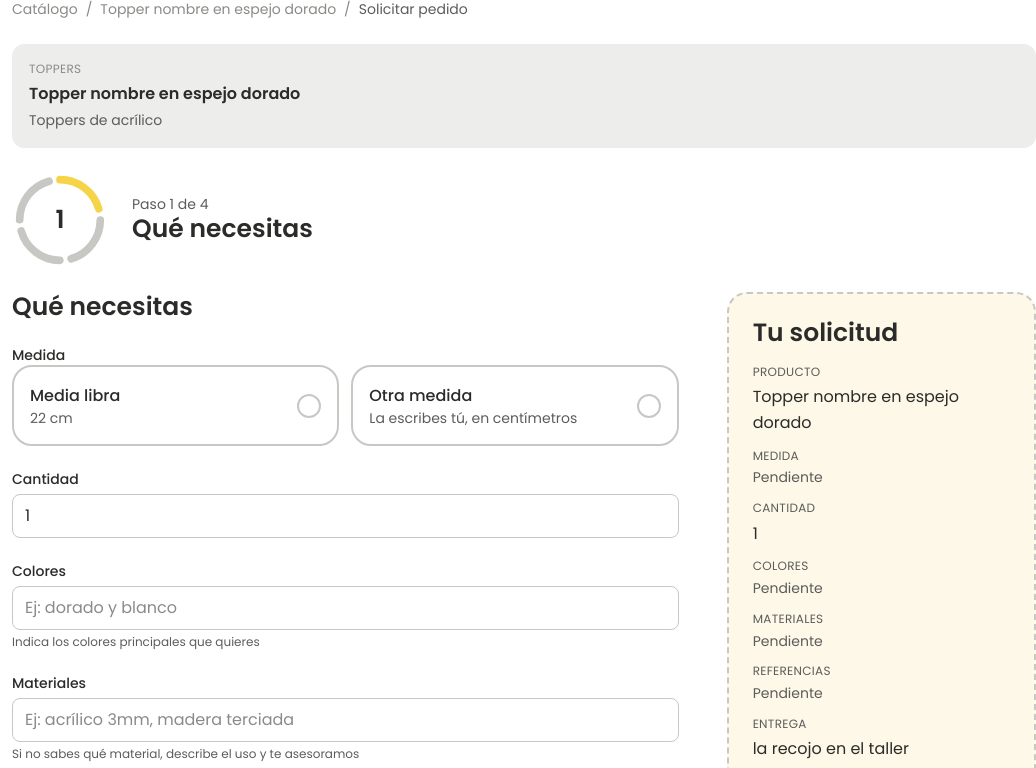
Test case: PedidoFormPage | recorrido › el anillo dice el paso y el momento, y el paso queda en la URL
The width and height of the screenshot is (1036, 768).
Expected: the heading "Qué necesitas" is shown, top-left (12, 289), bottom-right (193, 324)
Click the radio button labelled "Media libra 22 cm" at [176, 406], box top-left (12, 365), bottom-right (339, 446)
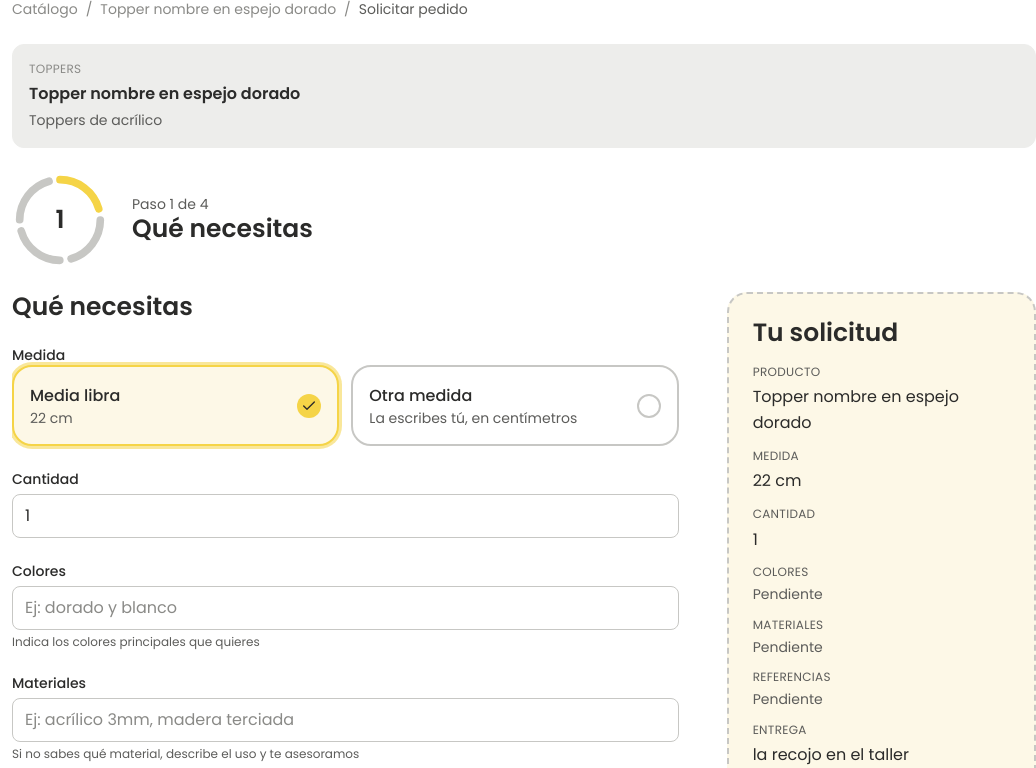
Type "dorado" into the field labelled "Colores" at [345, 608], box top-left (12, 586), bottom-right (679, 630)
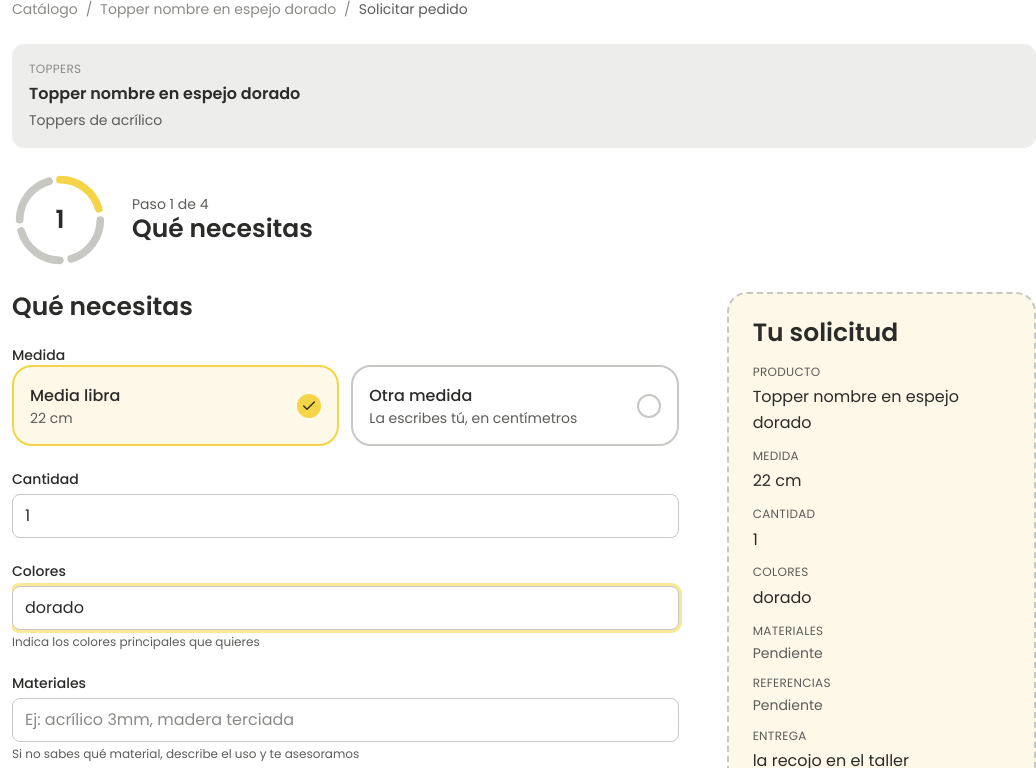
Type "acrílico espejo" into the field labelled "Materiales" at [345, 720], box top-left (12, 698), bottom-right (679, 742)
(page scrolled)
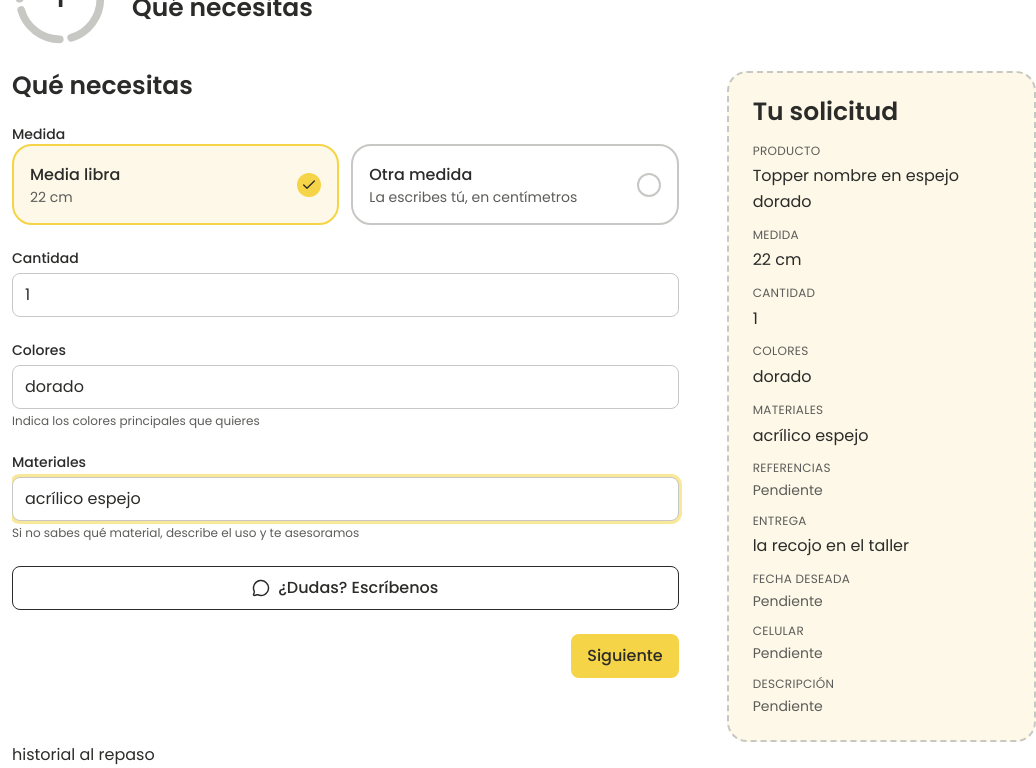
Click the button "Siguiente" at [625, 656], box top-left (571, 634), bottom-right (679, 678)
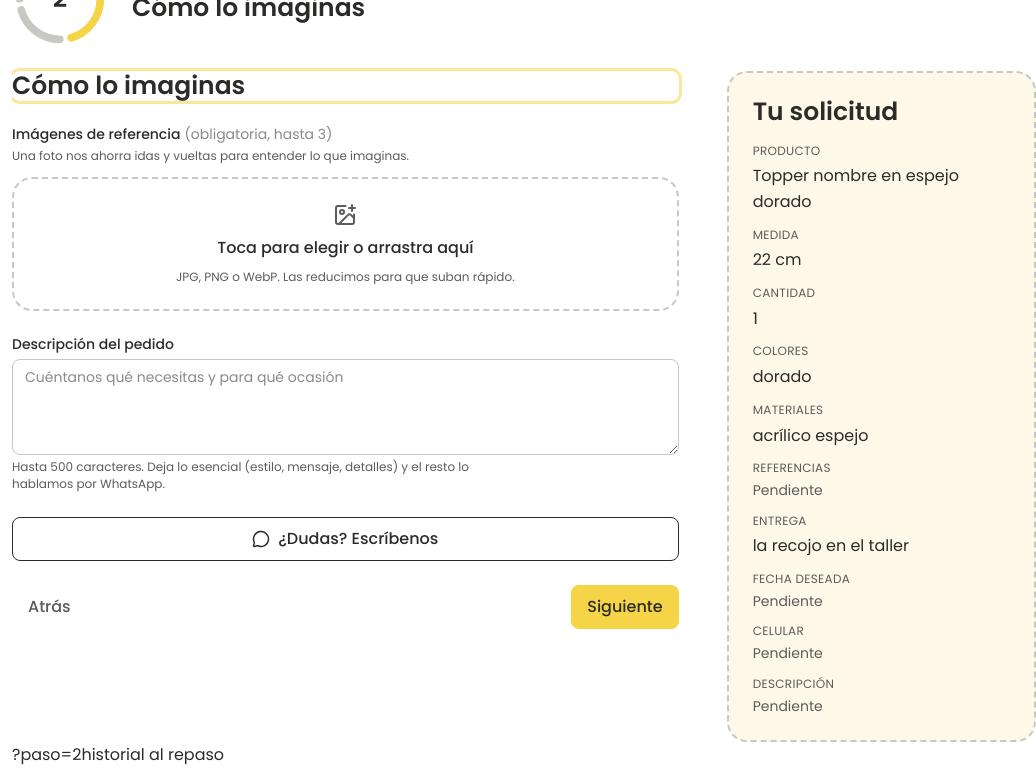
Expected: the text with test id "ubicacion" reads "?paso=2", top-left (12, 743), bottom-right (81, 766)
